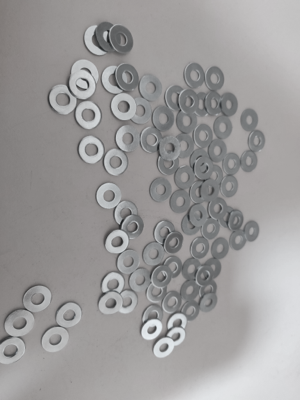circle: (48, 84, 78, 116), (70, 60, 100, 91), (74, 100, 103, 131), (68, 70, 97, 100), (41, 325, 71, 354), (5, 309, 35, 338), (84, 25, 111, 57), (23, 285, 53, 313), (77, 136, 105, 165), (101, 66, 129, 95), (96, 182, 124, 211), (0, 336, 27, 366), (96, 23, 122, 54), (102, 149, 129, 177), (55, 302, 84, 328), (109, 25, 134, 55), (110, 94, 137, 121), (113, 200, 139, 228), (115, 63, 140, 92), (115, 126, 141, 153), (139, 127, 164, 155), (128, 97, 153, 125), (104, 229, 130, 255), (139, 75, 164, 102), (120, 215, 145, 241), (151, 106, 176, 132), (129, 267, 153, 294), (116, 250, 141, 275), (99, 272, 125, 296), (169, 190, 193, 216), (115, 291, 139, 316), (97, 293, 123, 316), (161, 256, 184, 282), (164, 85, 187, 111), (191, 92, 214, 118), (140, 318, 164, 342), (154, 220, 177, 245), (142, 242, 165, 267), (150, 178, 173, 203), (157, 151, 180, 176), (173, 134, 196, 159), (174, 165, 197, 190), (184, 63, 206, 89), (142, 304, 165, 328), (176, 110, 199, 134), (179, 279, 202, 303), (159, 136, 181, 161), (177, 89, 199, 114), (161, 291, 183, 315), (151, 265, 173, 289), (193, 124, 214, 149), (207, 139, 228, 164), (201, 216, 222, 241), (205, 66, 225, 92), (180, 300, 201, 324), (164, 231, 185, 255), (189, 181, 210, 205), (200, 179, 221, 203), (201, 258, 222, 282), (182, 258, 203, 282), (153, 337, 175, 359), (166, 314, 188, 336), (166, 326, 187, 349), (194, 157, 215, 180), (210, 237, 231, 260), (190, 237, 211, 260), (181, 214, 202, 237), (214, 116, 234, 140), (220, 175, 240, 199), (208, 198, 228, 222), (241, 108, 260, 133), (206, 91, 224, 117), (247, 131, 267, 154), (222, 153, 242, 176), (198, 279, 218, 302), (220, 93, 239, 117), (188, 206, 208, 228), (195, 265, 215, 287), (229, 229, 248, 252), (199, 292, 218, 315), (243, 220, 261, 244), (228, 209, 246, 233), (240, 152, 259, 173)
